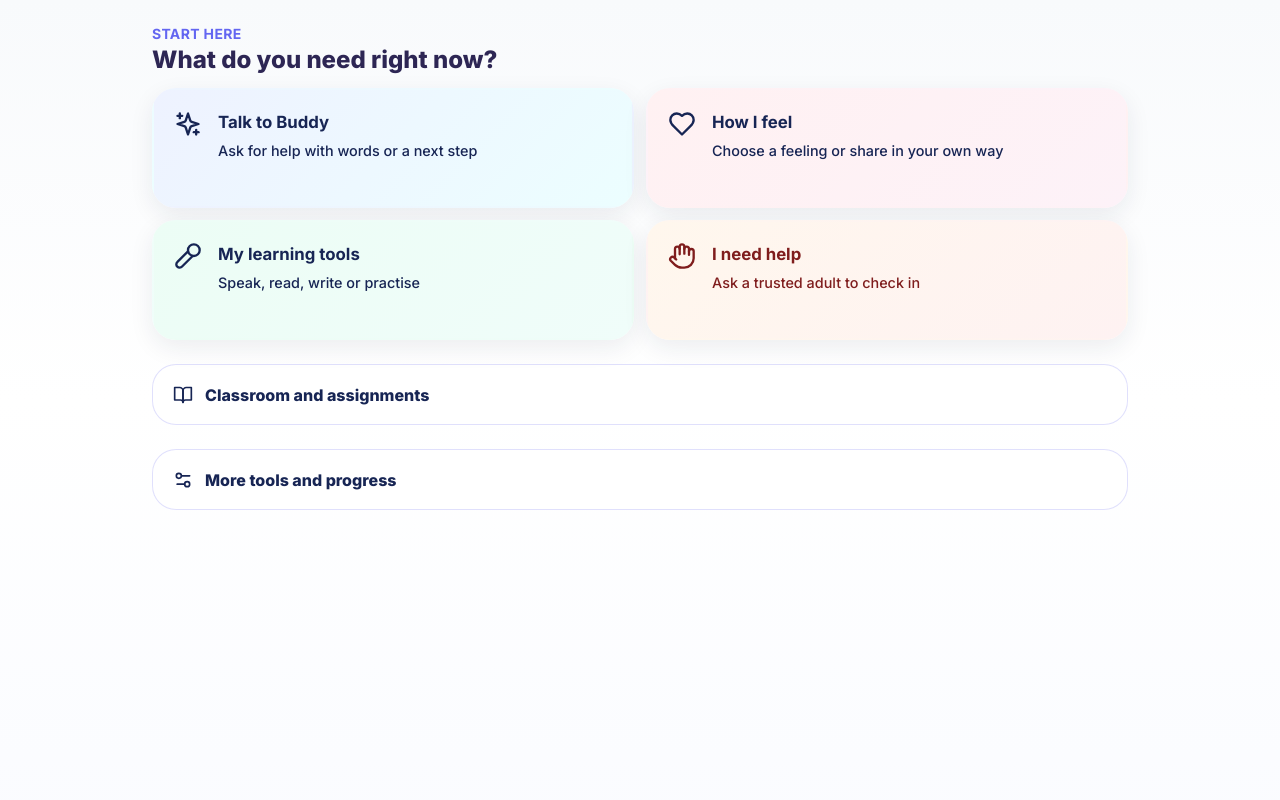
Test: records the real First Step Planner dashboard flow with measured time and minimal metadata
The width and height of the screenshot is (1280, 800).
Click the heading "More tools and progress" at [285, 480], box [173, 470, 396, 490]
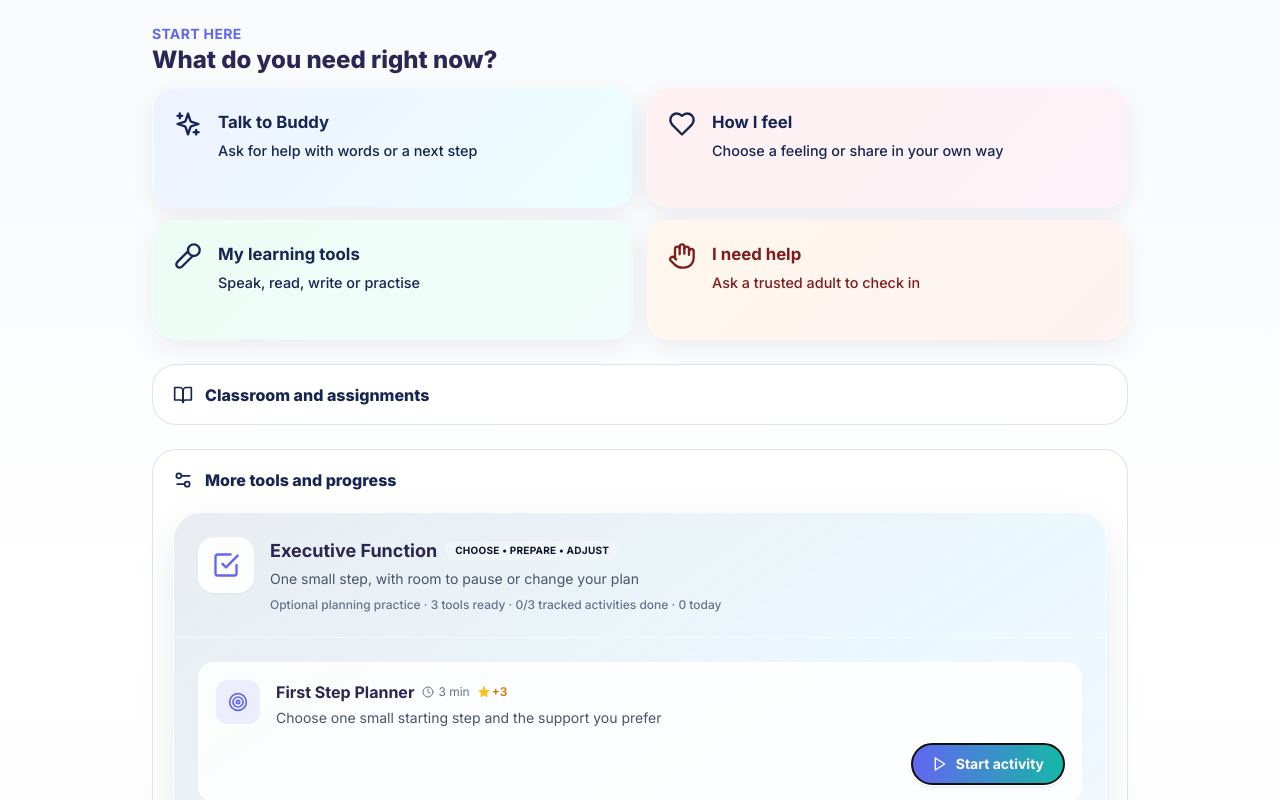
Click the button "Start activity" at [988, 764], box [912, 744, 1064, 784]
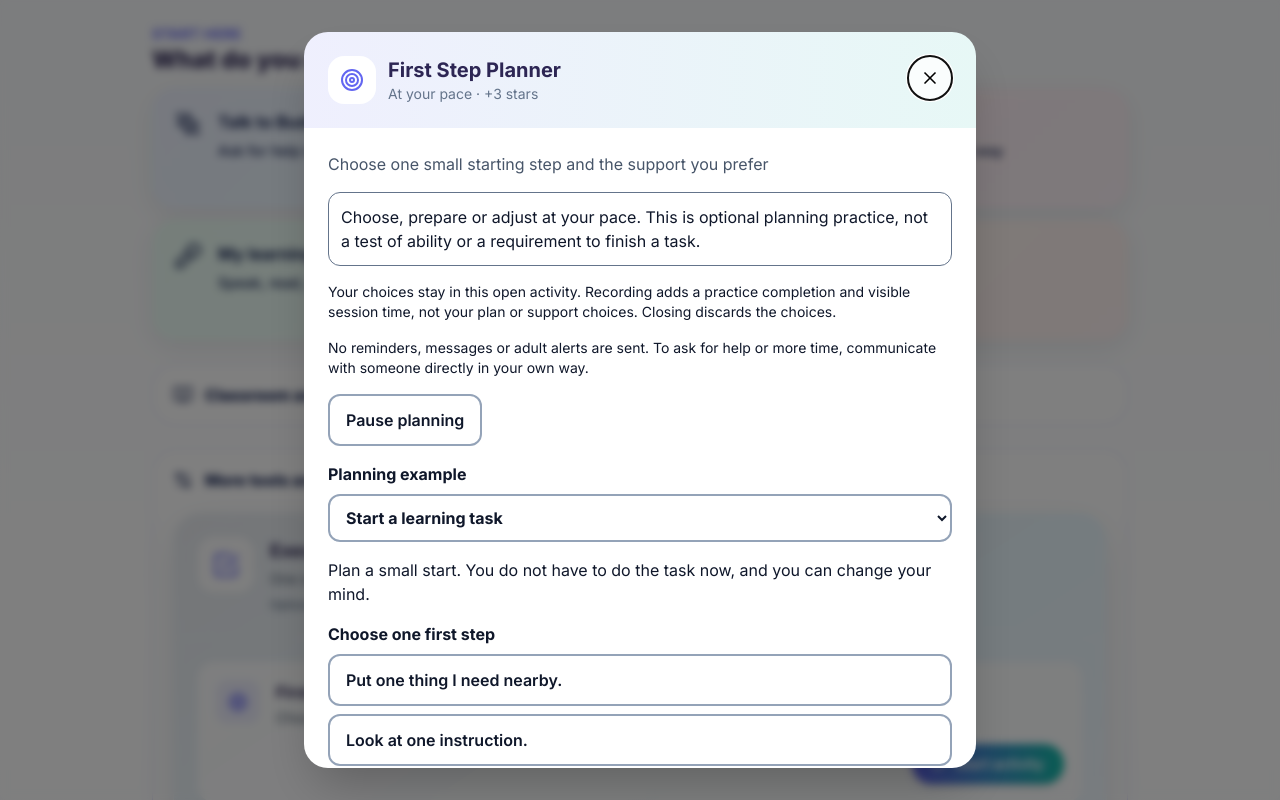
Now the dialog is shown, box [304, 32, 976, 768]
Click the button "Look at one instruction." at [437, 740], box [328, 714, 952, 766]
(page scrolled)
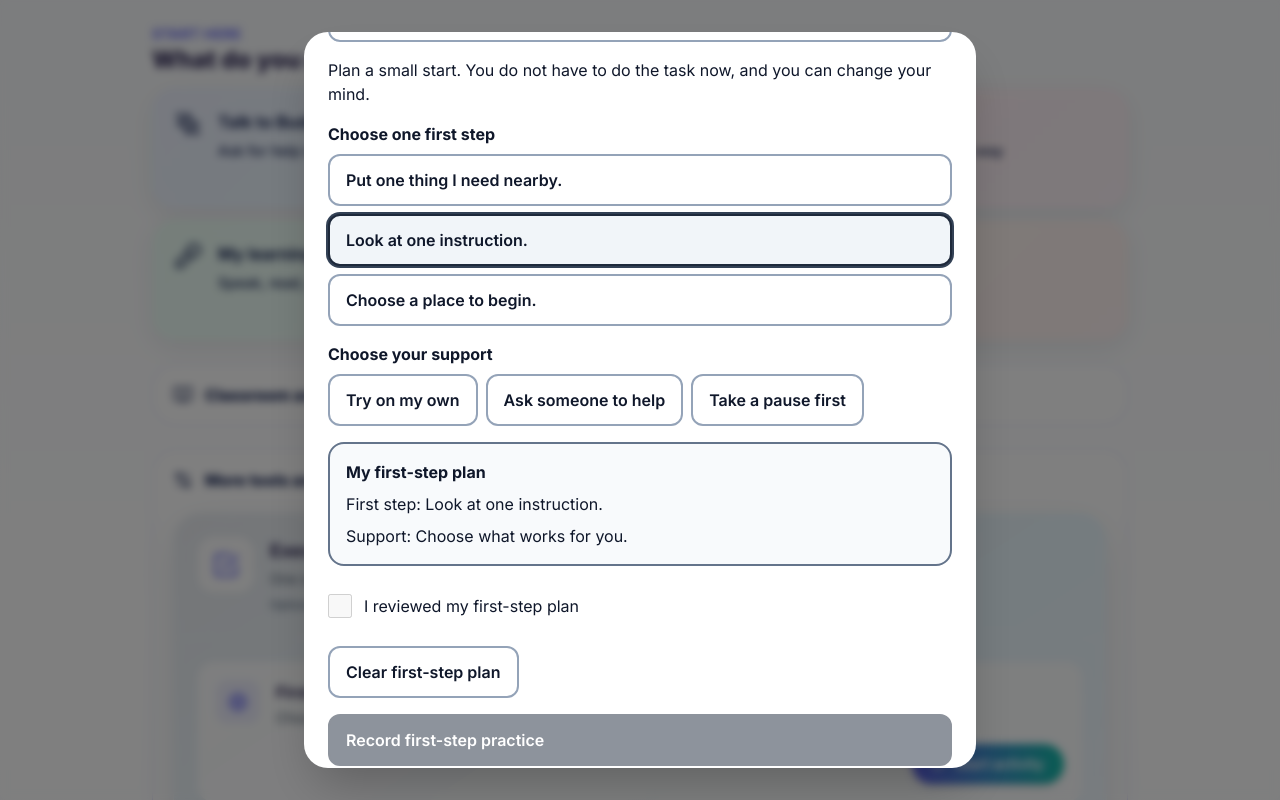
Click the button "Ask someone to help" at [584, 400], box [486, 374, 683, 426]
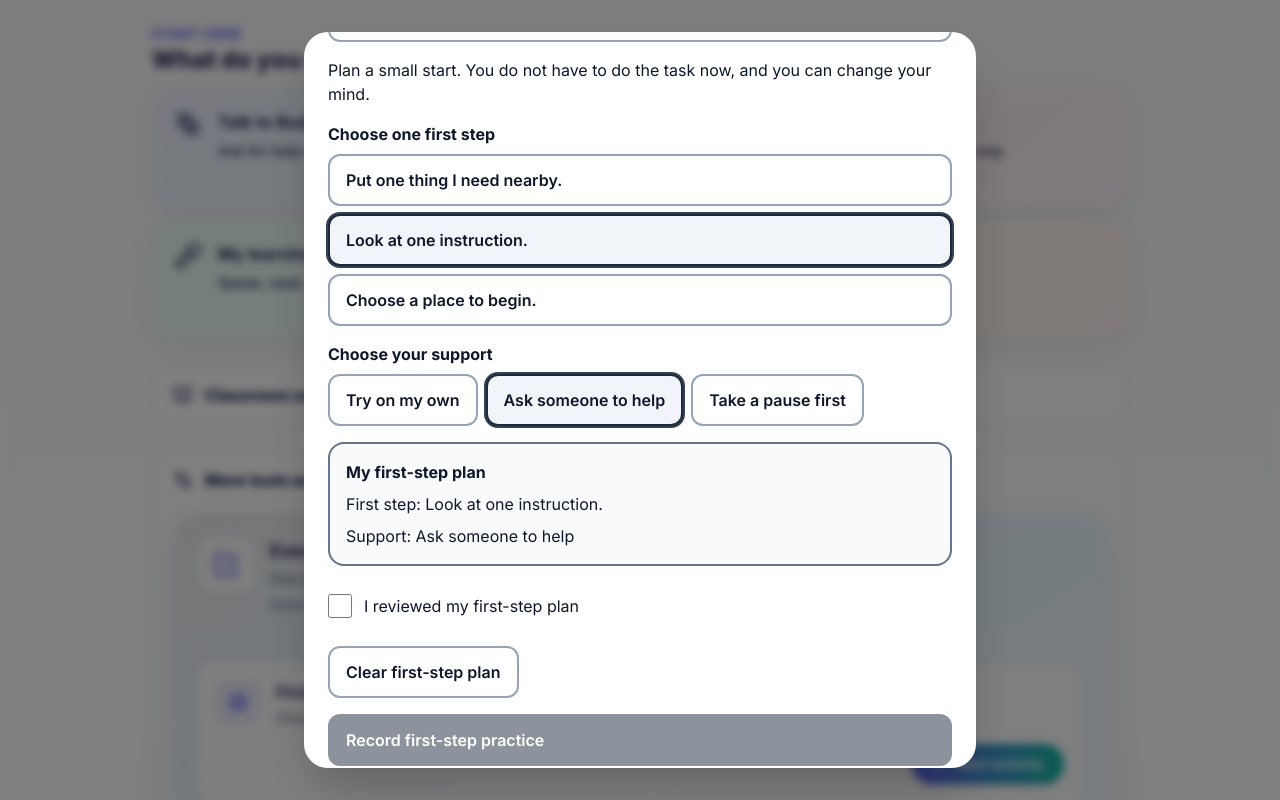
Click the checkbox at [340, 606], box [328, 594, 352, 618]
Wait 12000 ms
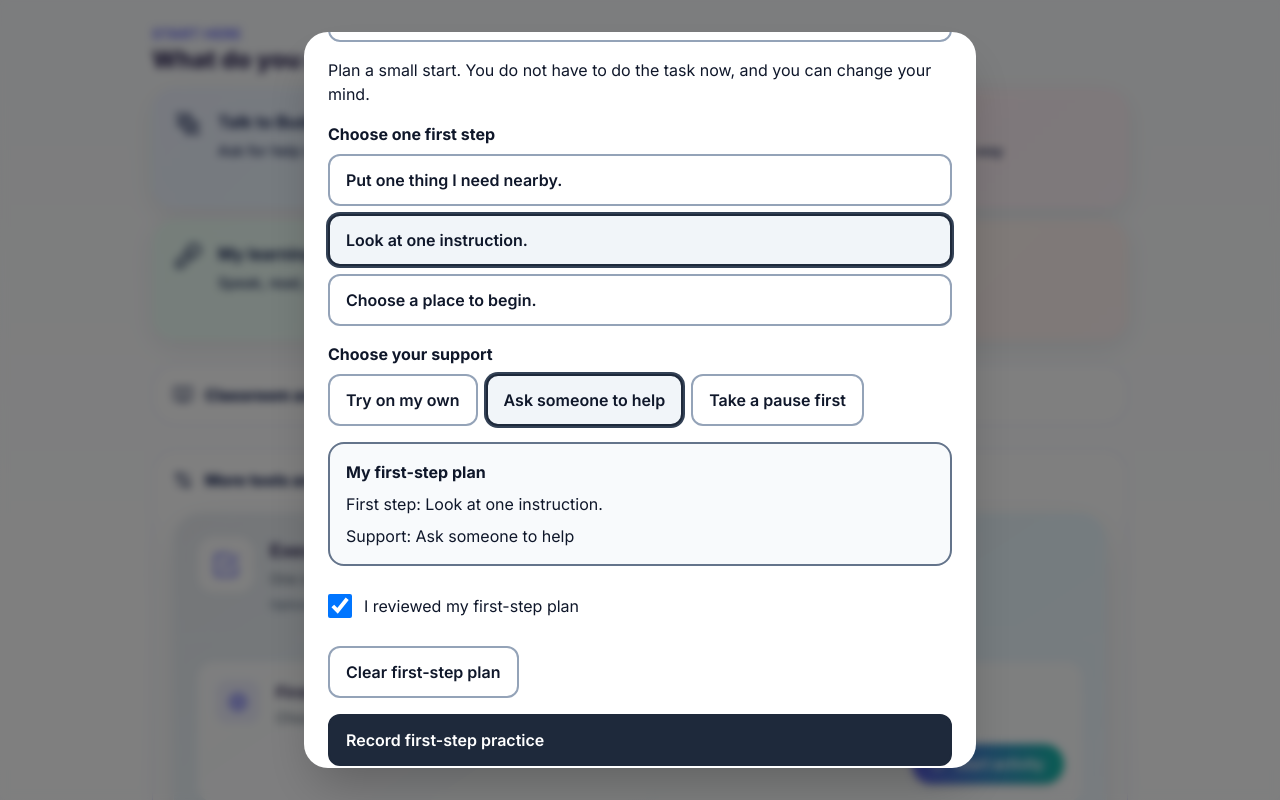
Click the button "Record first-step practice" at [445, 740], box [328, 714, 952, 766]
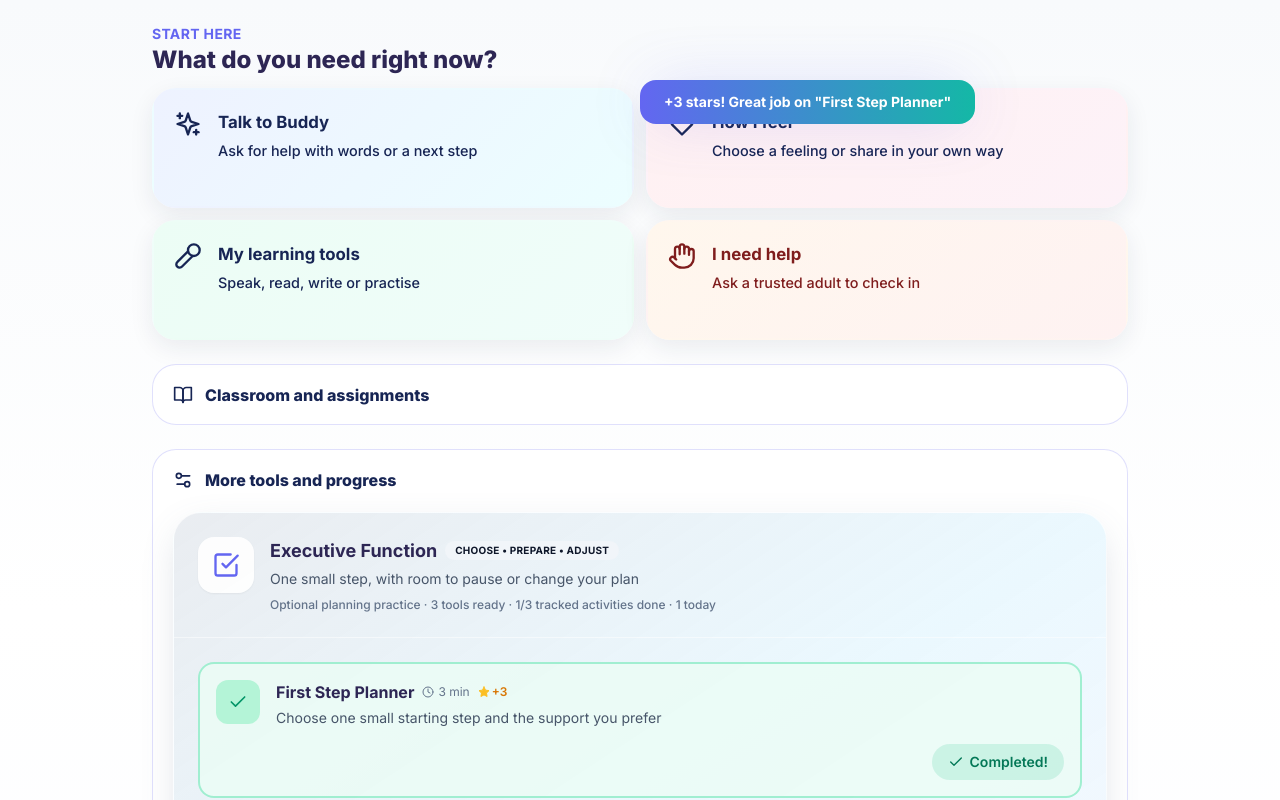
Now the dialog is gone
